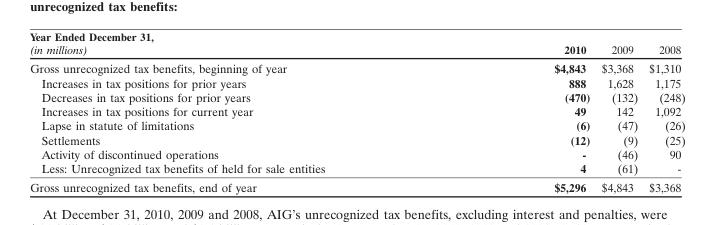table: (29, 29, 684, 194)
table column: (29, 29, 438, 194), (438, 29, 595, 194), (595, 29, 642, 194), (642, 29, 684, 194)
table column header: (29, 29, 684, 58)
table row: (29, 29, 684, 58), (29, 58, 684, 75), (29, 160, 684, 177), (29, 177, 684, 194), (29, 103, 684, 118), (29, 75, 684, 89), (29, 89, 684, 103), (29, 118, 684, 132), (29, 132, 684, 146), (29, 146, 684, 160)
